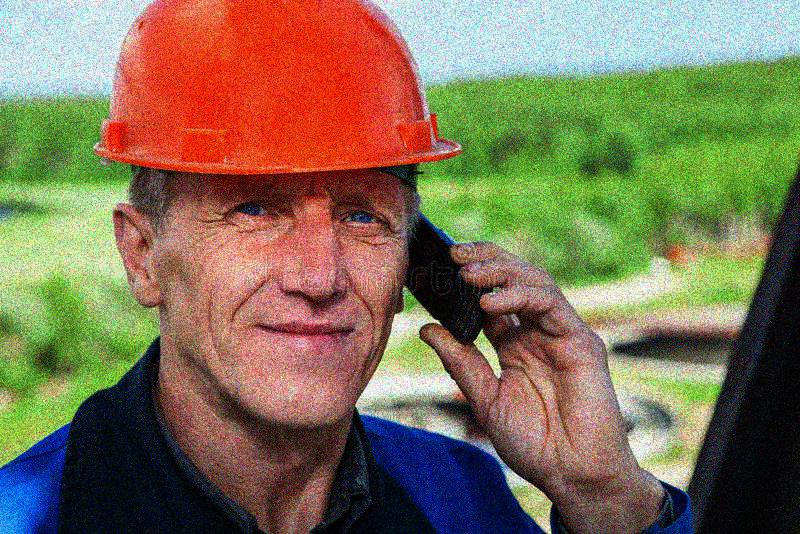helmet: (91, 1, 459, 426)
